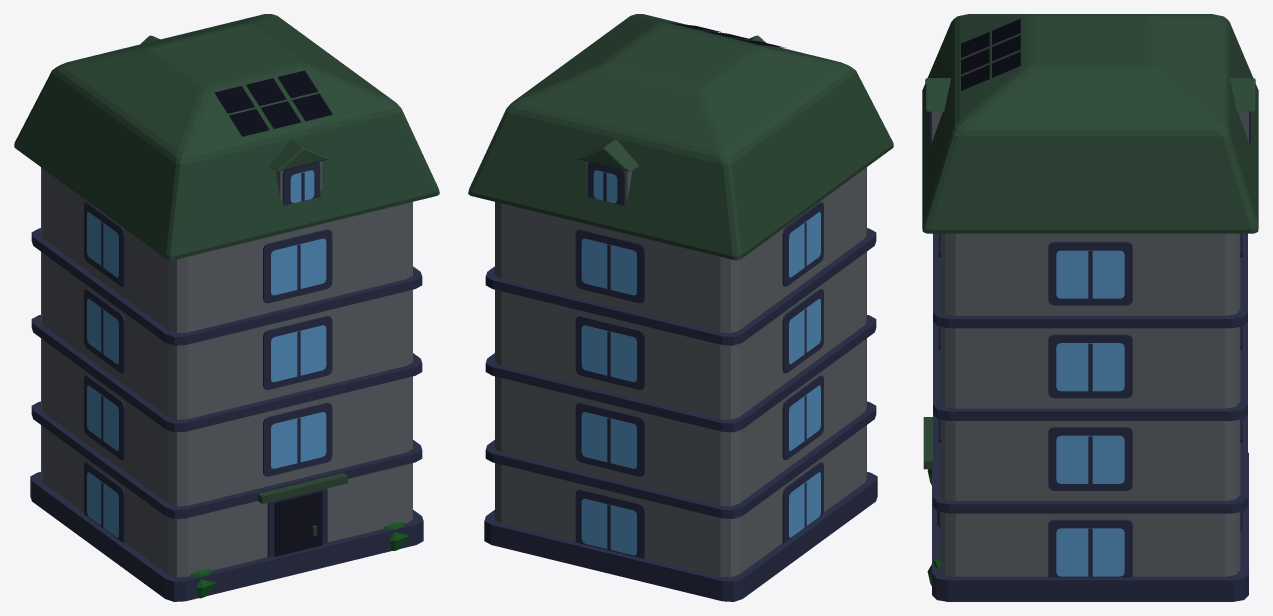
The model's file is house-1x1-4f-mansard-d-solar.glb.
The picture shows the model from 3 angles, left to right: view 1: azimuth 30°, elevation 25°; view 2: azimuth 150°, elevation 25°; view 3: azimuth 270°, elevation 25°; orthographic projection. The views are drawn at different scales.
Parts seen in each view (by area): view 1: house-1x1-4f-mansard-d-solar; view 2: house-1x1-4f-mansard-d-solar; view 3: house-1x1-4f-mansard-d-solar.
Boxes of the visible parts, x1,y1,x2,y2 form: house-1x1-4f-mansard-d-solar: (14, 14, 439, 601); house-1x1-4f-mansard-d-solar: (468, 14, 893, 601); house-1x1-4f-mansard-d-solar: (922, 14, 1258, 601).
Bounding box in the file's own units: 0.9876 × 1.6 × 0.9876.
1 material, 1 textured.
